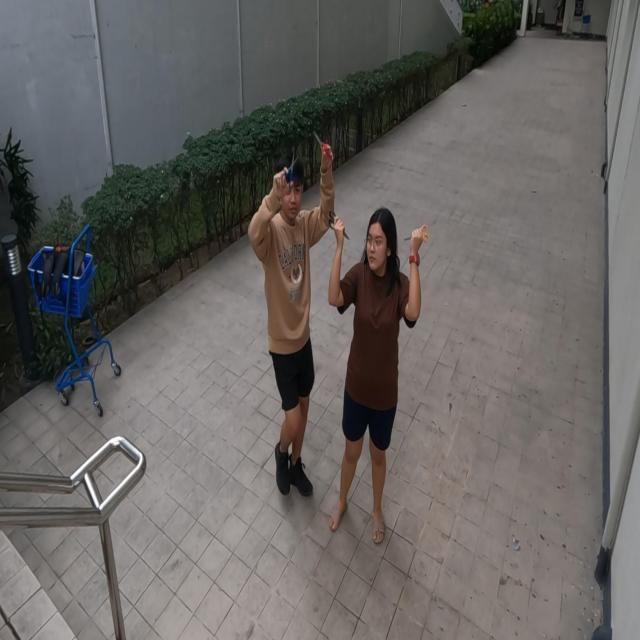scissor: (328, 209, 349, 239), (282, 152, 298, 189), (314, 129, 331, 159), (404, 225, 428, 243)
